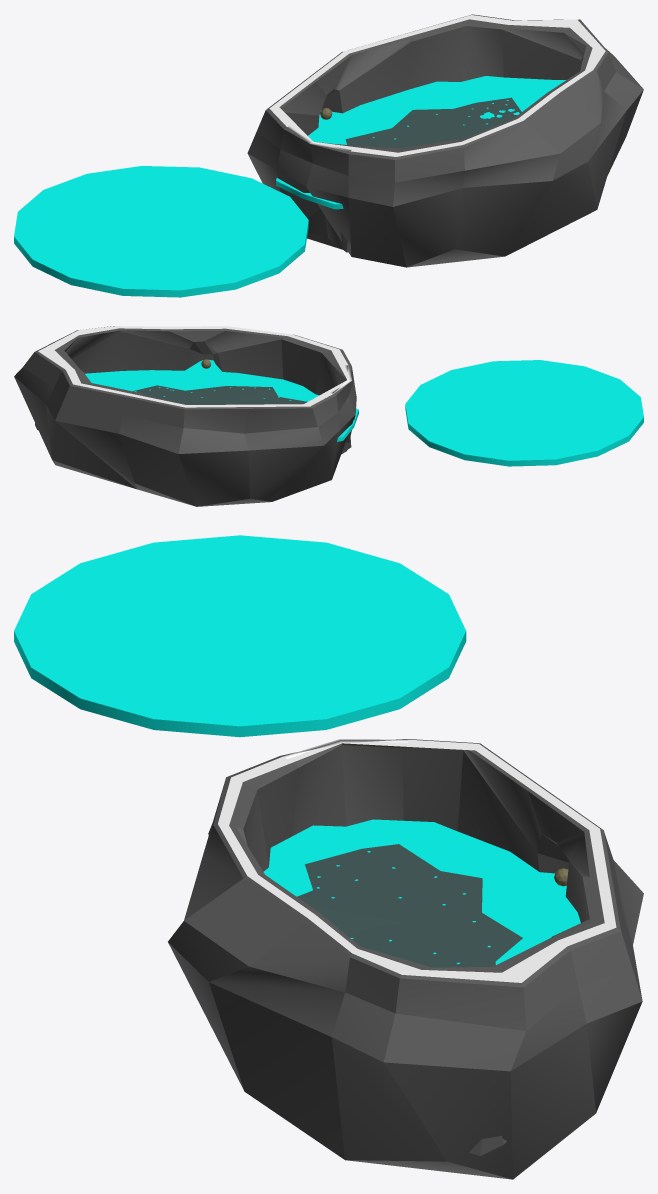
3 renders of one model, top to bottom at view 1: azimuth 30°, elevation 25°; view 2: azimuth 150°, elevation 25°; view 3: azimuth 270°, elevation 25°, orthographic. The views are drawn at different scales.
Visible parts, largest first — view 1: Structure, Lake, Lake__1_, Lake__2_; view 2: Structure, Lake, Lake__1_, Lake__2_; view 3: Structure, Lake, Lake__2_, Lake__1_.
Boxes of the visible parts, x1,y1,x2,y2 form: Structure: (247,14,643,267); Lake: (14,166,308,297); Lake__1_: (276,76,565,209); Lake__2_: (345,97,521,148); Structure: (14,326,356,506); Lake: (405,360,643,466); Lake__1_: (85,360,358,441); Lake__2_: (133,385,307,404); Structure: (168,739,643,1179); Lake: (14,535,466,737); Lake__2_: (297,844,522,967); Lake__1_: (263,819,580,964).
Bounding box in the file's own units: 186441 × 36797 × 99719.
